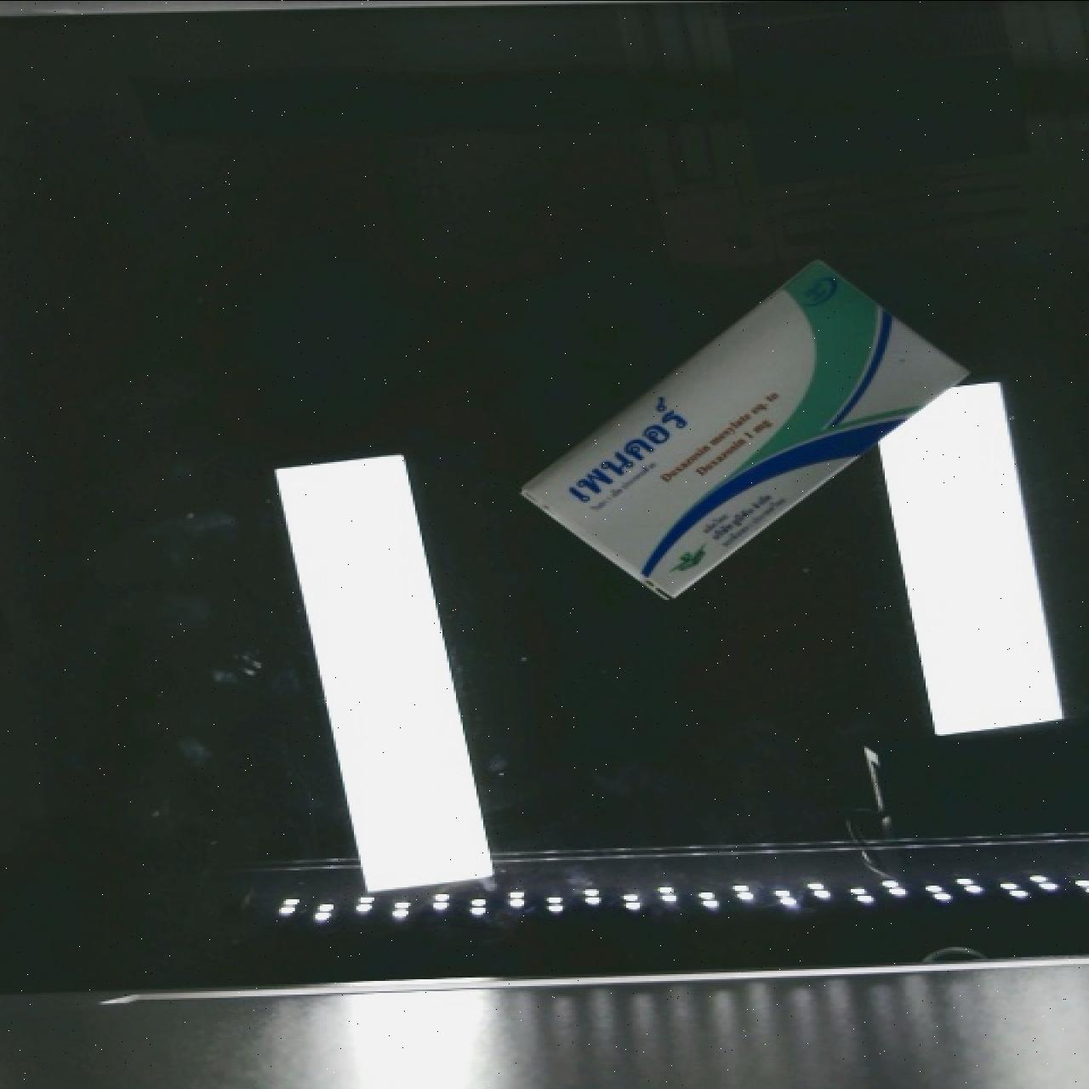medicine_label_obb: (524, 369, 711, 541)
